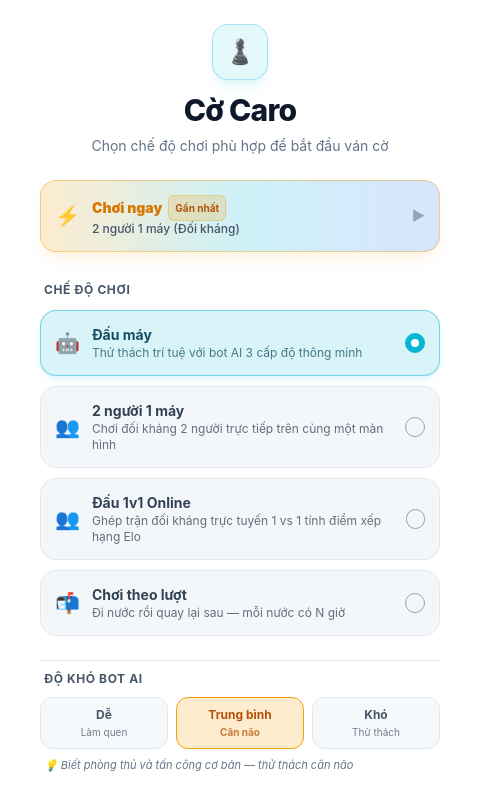
it: Caro Game View Component, Local Data & Auto-Save Recovery Tests (View.tsx - P1.5a & P1.5b) › 9. Chọn chế độ online_1v1 -> chuyển sang màn hình Sảnh Đấu Trực Tuyến (P3.3b)
The image size is (481, 796).
Click the button with test id "mode-btn-online_1v1".
click(240, 519)  # box x1=40 y1=478 x2=440 y2=560
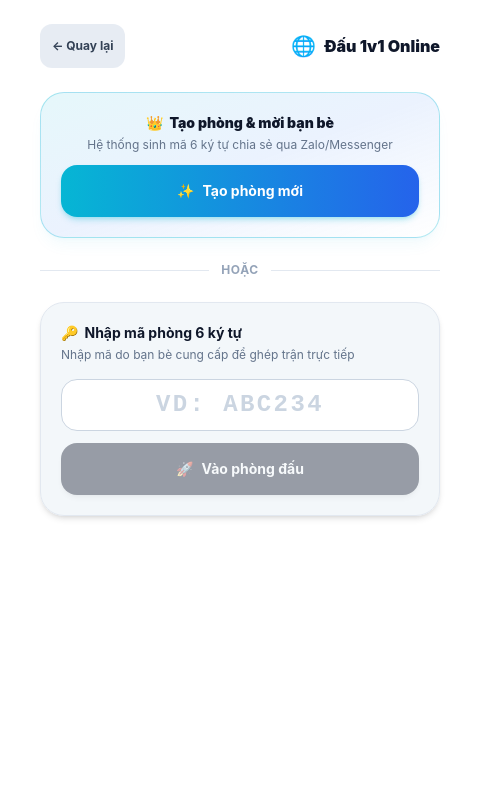
Now the element with test id "caro-online-lobby-screen" is shown, box x1=40 y1=24 x2=440 y2=516
Now the element with test id "online-lobby" is shown
